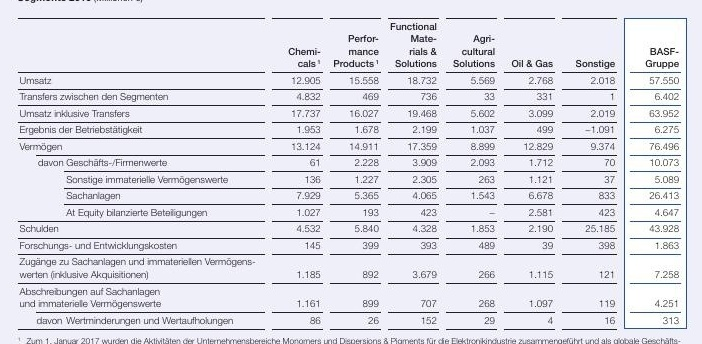table: (0, 0, 702, 344)
